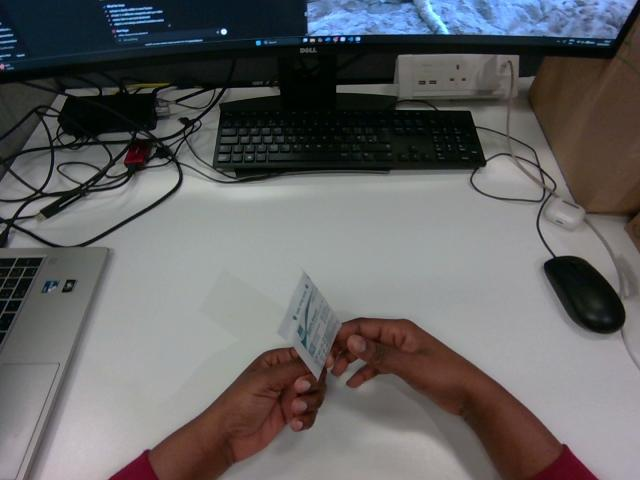gauze: (278, 273, 340, 377)
